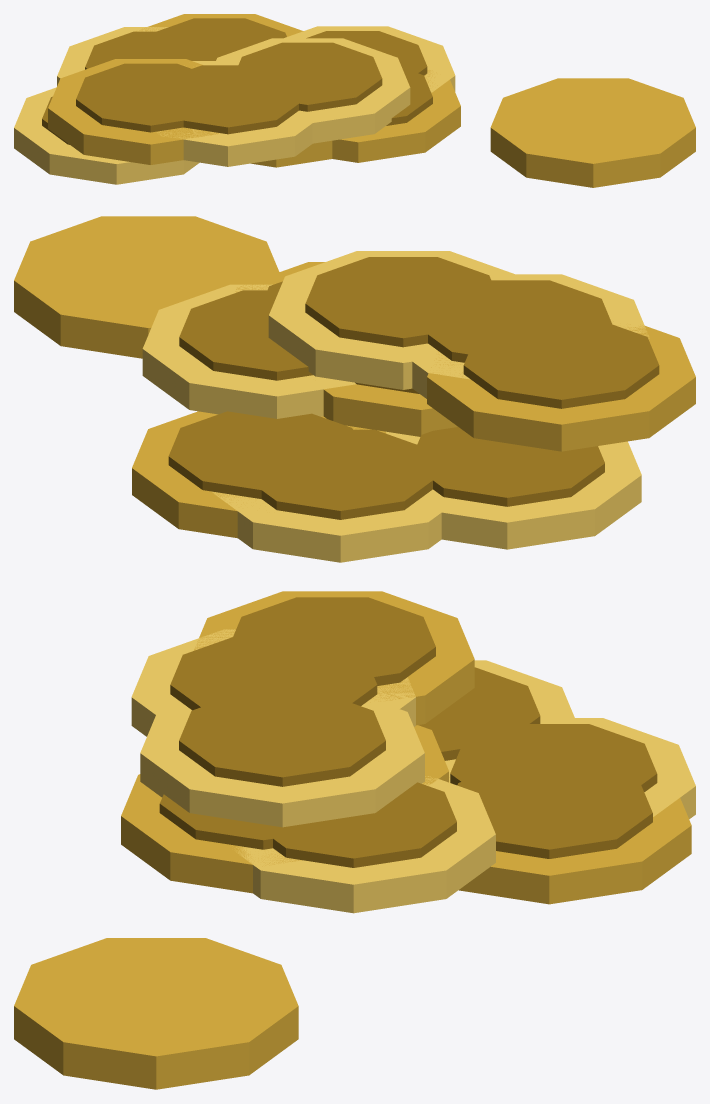
File: drop_coins.glb
3 views of the same model, one above another, from view 1: azimuth 30°, elevation 25°; view 2: azimuth 150°, elevation 25°; view 3: azimuth 270°, elevation 25° (orthographic). The views are drawn at different scales.
Parts seen in each view (by area): view 1: drop_coins; view 2: drop_coins; view 3: drop_coins.
Boxes of the visible parts, left/top/right/bottom form: drop_coins: left=14, top=14, right=695, bottom=187; drop_coins: left=14, top=216, right=695, bottom=562; drop_coins: left=14, top=591, right=695, bottom=1089.
Size of the model in its own units: 0.3375 by 0.056 by 0.2596.
